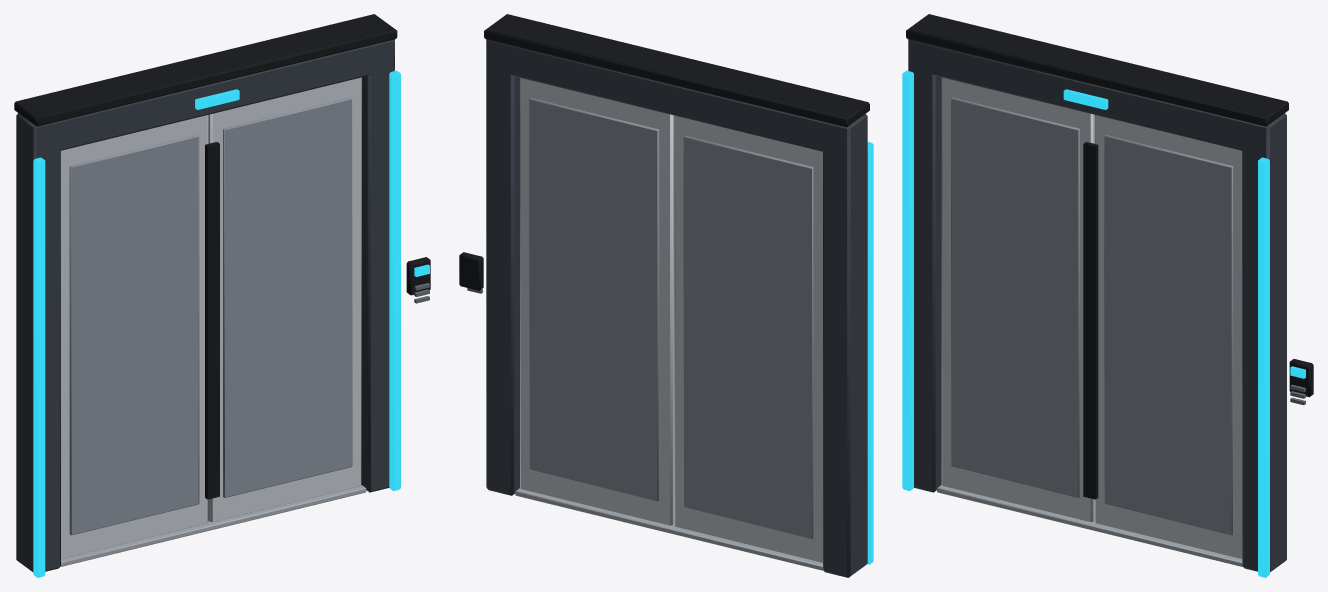
File: door_bulkhead.glb
The picture shows the model from 3 angles, left to right: view 1: azimuth 30°, elevation 25°; view 2: azimuth 150°, elevation 25°; view 3: azimuth 330°, elevation 25°; orthographic projection.
Visible parts, largest first — view 1: leaf_l, body, leaf_r; view 2: leaf_r, body, leaf_l; view 3: leaf_r, body, leaf_l.
Boxes of the visible parts, box(x1,y1,x2,y2) form: leaf_l: box(61, 115, 213, 558); body: box(14, 14, 430, 577); leaf_r: box(208, 77, 361, 521); leaf_r: box(520, 78, 674, 525); body: box(459, 14, 873, 577); leaf_l: box(674, 115, 822, 562); leaf_r: box(1089, 115, 1242, 558); body: box(902, 14, 1313, 577); leaf_l: box(941, 77, 1094, 521).
Bounding box in the file's own units: 2.62 × 2.86 × 0.285.
